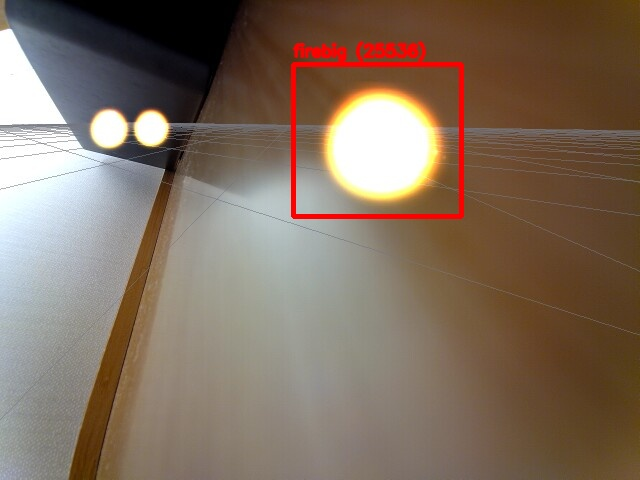firebig: (293, 64, 461, 216)
